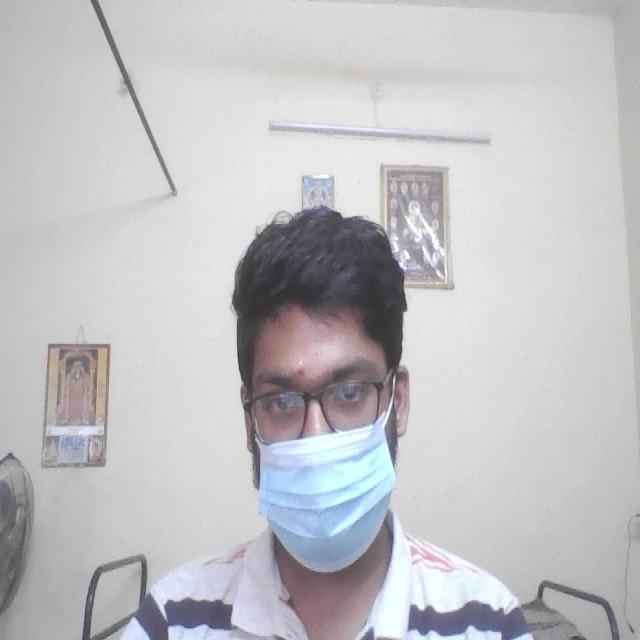Focused: (221, 299, 408, 552)
